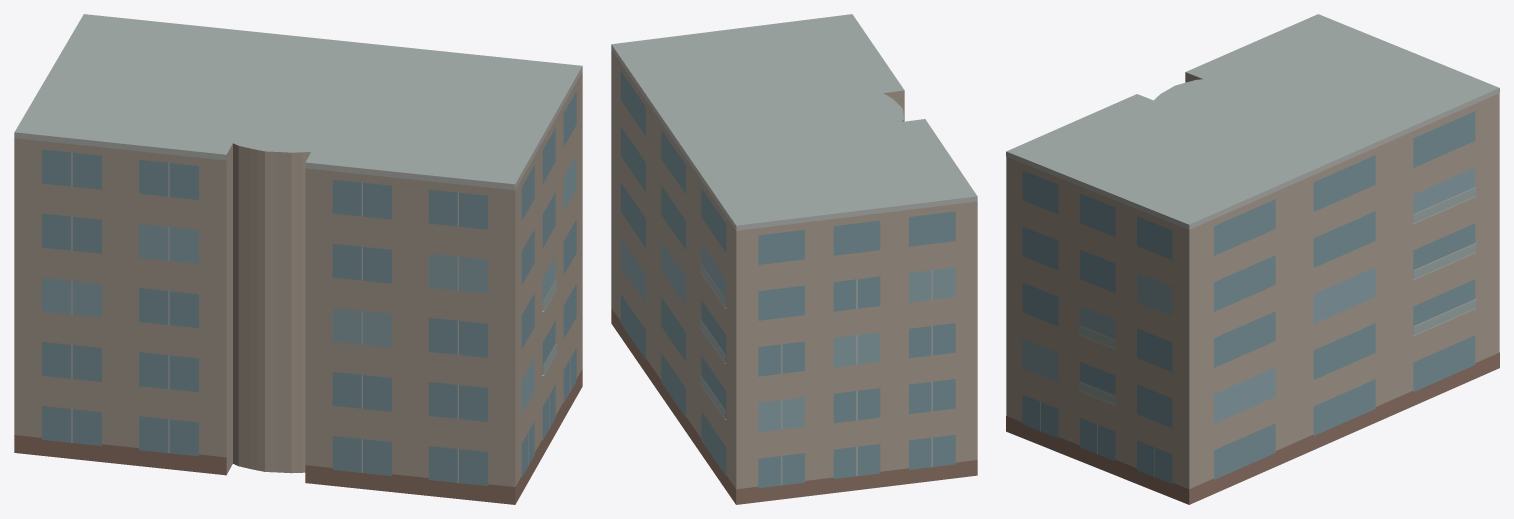
The model's file is survey-upis-32914842.glb.
3 views of the same model, side by side, from view 1: azimuth 30°, elevation 25°; view 2: azimuth 150°, elevation 25°; view 3: azimuth 270°, elevation 25° (orthographic). The views are drawn at different scales.
Visible parts, largest first — view 1: survey-upis-32914842.tmp; view 2: survey-upis-32914842.tmp; view 3: survey-upis-32914842.tmp.
Boxes of the visible parts, x1,y1,x2,y2 form: survey-upis-32914842.tmp: (14,14,582,504); survey-upis-32914842.tmp: (611,14,977,504); survey-upis-32914842.tmp: (1006,14,1499,504).
Size of the model in its own units: 21.47 by 13.3 by 21.25.
